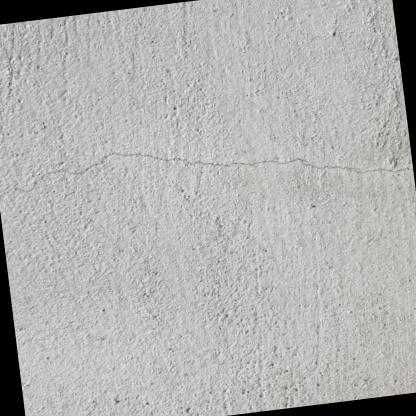crack: (0, 152, 413, 198)
